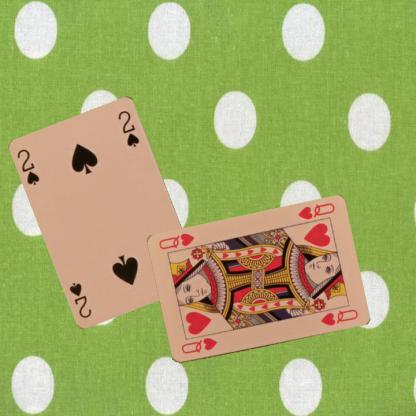2s: (15, 146, 42, 187)
Qh: (295, 200, 336, 221), (178, 335, 219, 355)
